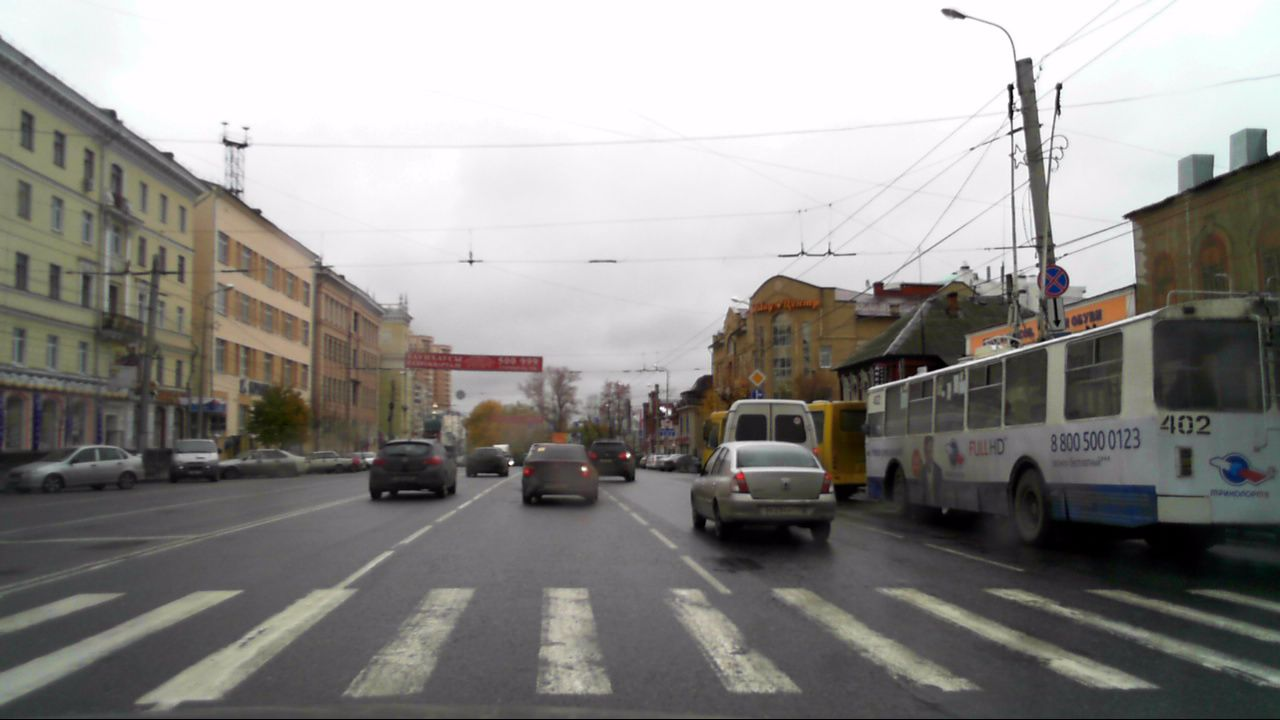No Parking: (1037, 265, 1069, 297)
